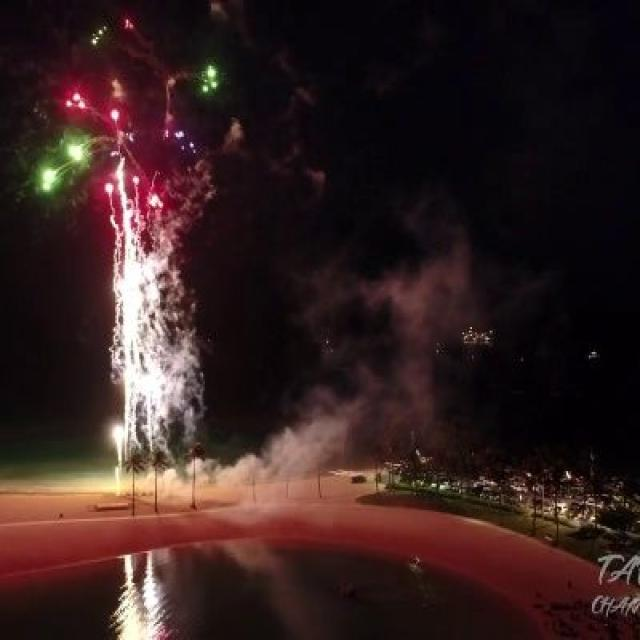Smoke: (352, 248, 466, 435), (225, 414, 346, 482), (122, 450, 221, 490)
